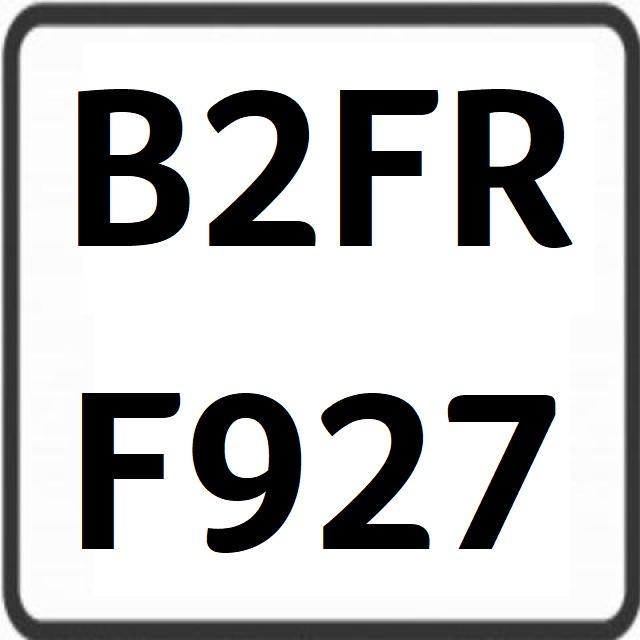2: (315, 378, 434, 572)
7: (448, 362, 561, 563)
B: (70, 73, 197, 263)
F: (72, 360, 181, 556), (339, 68, 442, 262)
R: (446, 76, 576, 263)
